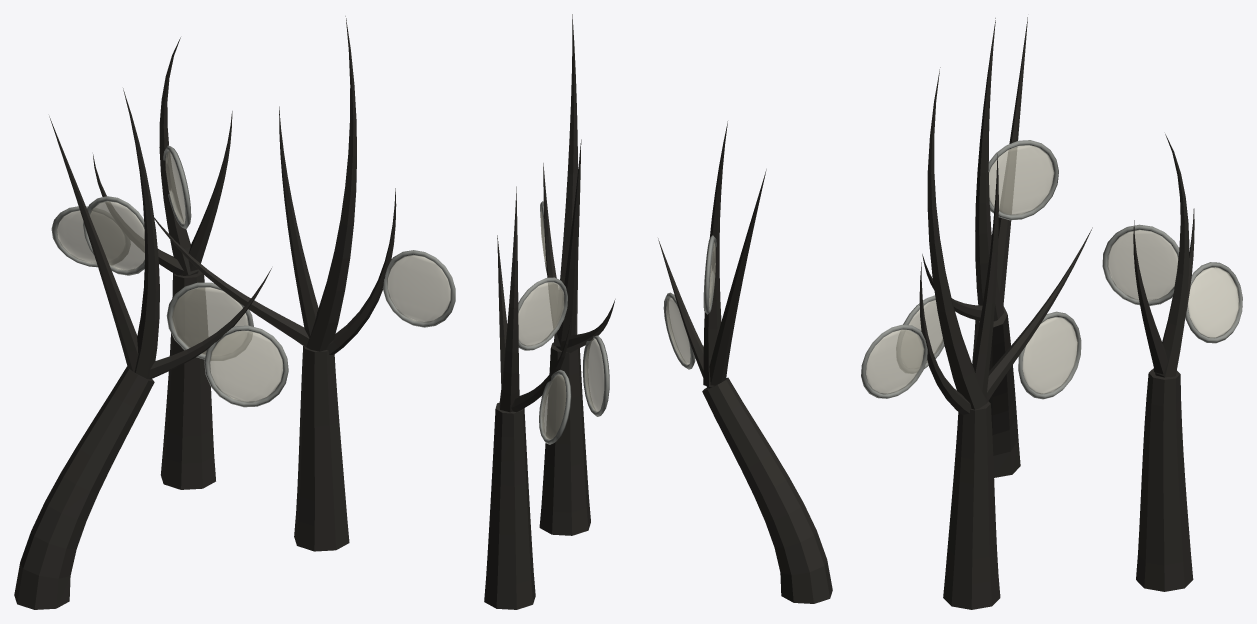
The model's file is lensbomen.glb.
The picture shows the model from 3 angles, left to right: view 1: azimuth 30°, elevation 25°; view 2: azimuth 150°, elevation 25°; view 3: azimuth 270°, elevation 25°; orthographic projection. The views are drawn at different scales.
Parts seen in each view (by area): view 1: lensbomen; view 2: lensbomen; view 3: lensbomen.
Boxes of the visible parts, x1,y1,x2,y2 form: lensbomen: (14,16,455,609); lensbomen: (484,14,832,609); lensbomen: (861,17,1242,609).
Bounding box in the file's own units: 5.12 × 7 × 4.53.
